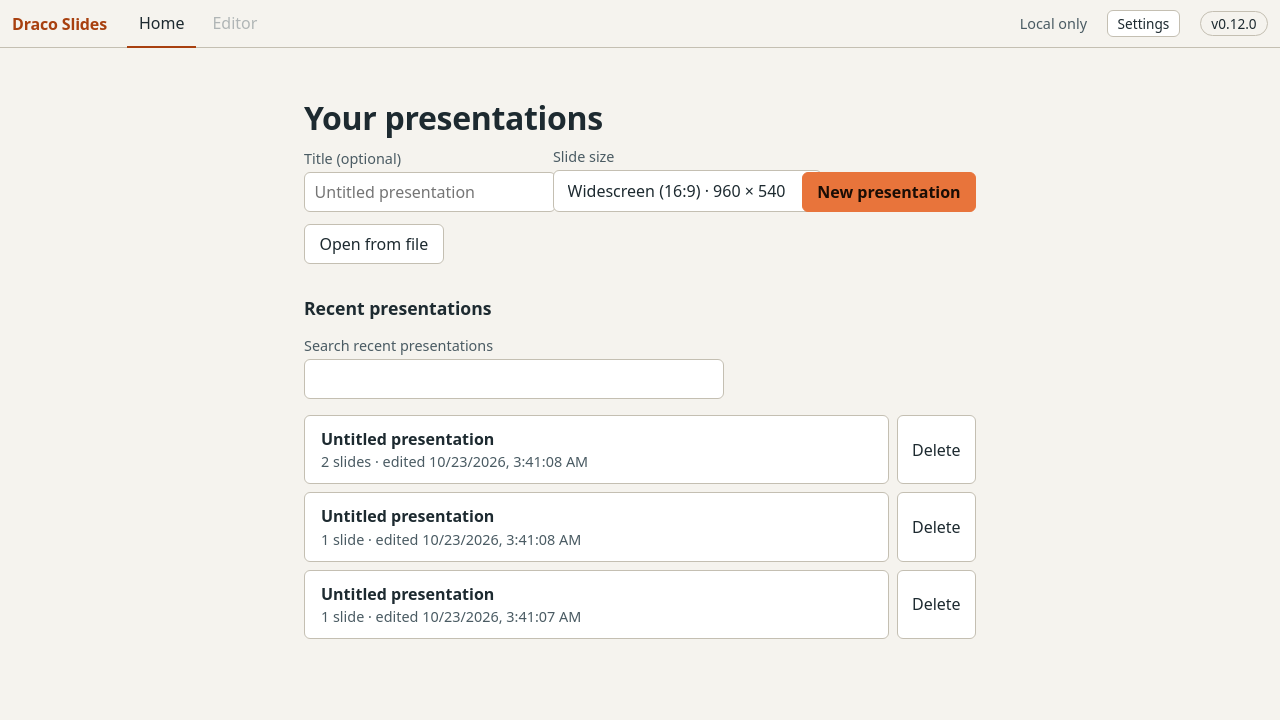
Test: Editor layout › shows the slide size in the status bar
The image size is (1280, 720).
Click the button "New presentation" at (889, 192), box [802, 172, 976, 212]
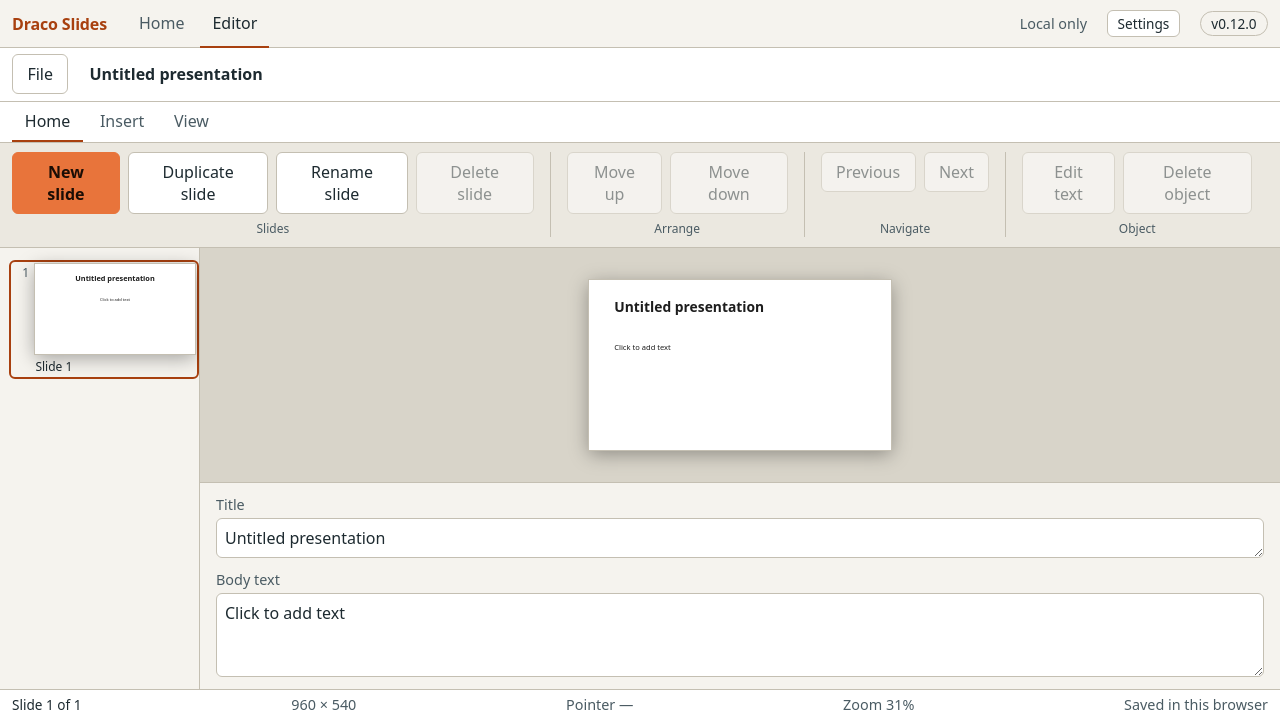
Now the text "960 × 540" is shown, box [291, 695, 356, 714]
